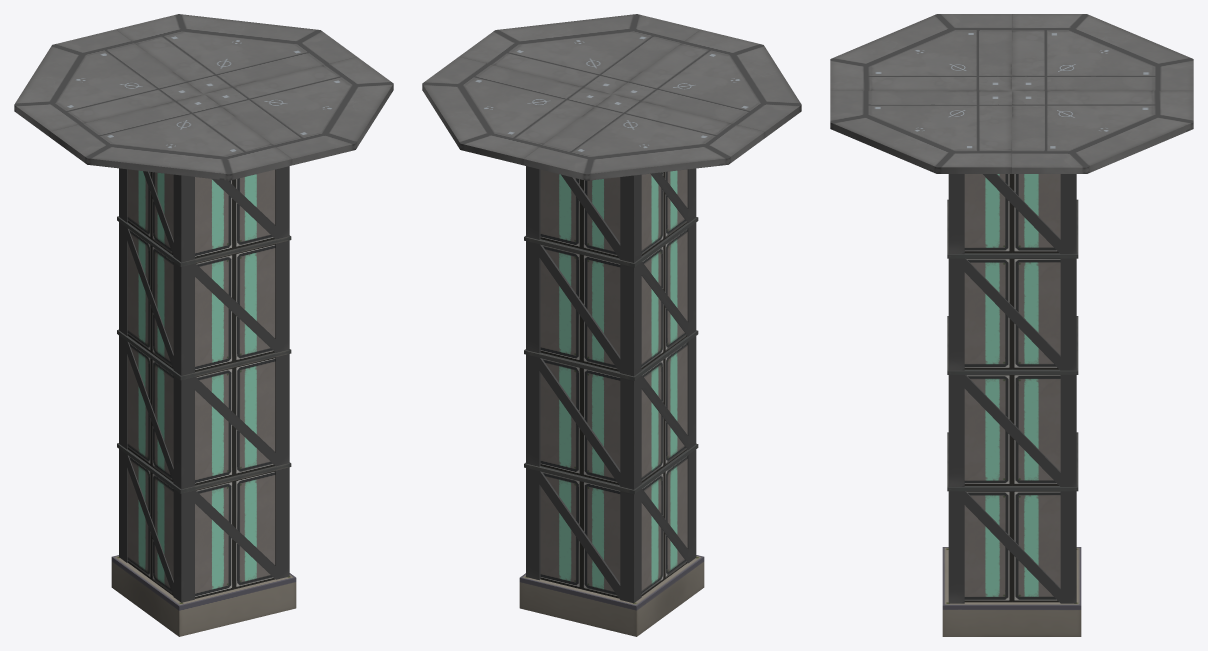
File: Sci-Fi_Prefab_Var8.fbx
3 renders of one model, left to right at view 1: azimuth 30°, elevation 25°; view 2: azimuth 150°, elevation 25°; view 3: azimuth 270°, elevation 25°, orthographic. The views are drawn at different scales.
Visible parts, largest first — view 1: ProjectRG_Environment_Sci-Fi_OctagonPlatform.018, ProjectRG_Environment_Sci-Fi_OctagonPlatform.019, ProjectRG_Environment_Sci-Fi_OctagonPlatform.017, ProjectRG_Environment_Sci-Fi_OctagonPlatform.020, ProjectRG_Environment_Sci-Fi_FrameTower.014, ProjectRG_Environment_Sci-Fi_FrameTower.013, ProjectRG_Environment_Sci-Fi_FrameTower.015, ProjectRG_Environment_Sci-Fi_BaseFoundation_Large.002, ProjectRG_Environment_Sci-Fi_ModBlock_Tall.025, ProjectRG_Environment_Sci-Fi_ModBlock_Tall.030, ProjectRG_Environment_Sci-Fi_ModBlock_Tall.024, ProjectRG_Environment_Sci-Fi_FrameTower.016 (+12 smaller); view 2: ProjectRG_Environment_Sci-Fi_OctagonPlatform.017, ProjectRG_Environment_Sci-Fi_OctagonPlatform.020, ProjectRG_Environment_Sci-Fi_OctagonPlatform.018, ProjectRG_Environment_Sci-Fi_OctagonPlatform.019, ProjectRG_Environment_Sci-Fi_FrameTower.015, ProjectRG_Environment_Sci-Fi_FrameTower.013, ProjectRG_Environment_Sci-Fi_FrameTower.014, ProjectRG_Environment_Sci-Fi_BaseFoundation_Large.002, ProjectRG_Environment_Sci-Fi_ModBlock_Tall.032, ProjectRG_Environment_Sci-Fi_ModBlock_Tall.033, ProjectRG_Environment_Sci-Fi_ModBlock_Tall.027, ProjectRG_Environment_Sci-Fi_FrameTower.016 (+12 smaller); view 3: ProjectRG_Environment_Sci-Fi_OctagonPlatform.019, ProjectRG_Environment_Sci-Fi_OctagonPlatform.020, ProjectRG_Environment_Sci-Fi_OctagonPlatform.017, ProjectRG_Environment_Sci-Fi_OctagonPlatform.018, ProjectRG_Environment_Sci-Fi_BaseFoundation_Large.002, ProjectRG_Environment_Sci-Fi_FrameTower.013, ProjectRG_Environment_Sci-Fi_FrameTower.015, ProjectRG_Environment_Sci-Fi_FrameTower.014, ProjectRG_Environment_Sci-Fi_ModBlock_Tall.034, ProjectRG_Environment_Sci-Fi_ModBlock_Tall.036, ProjectRG_Environment_Sci-Fi_ModBlock_Tall.029, ProjectRG_Environment_Sci-Fi_ModBlock_Tall.028 (+8 smaller).
Part boxes in pixels (bbox=[...]): ProjectRG_Environment_Sci-Fi_OctagonPlatform.018: bbox=[50, 94, 292, 180]; ProjectRG_Environment_Sci-Fi_OctagonPlatform.019: bbox=[204, 57, 393, 165]; ProjectRG_Environment_Sci-Fi_OctagonPlatform.017: bbox=[14, 29, 203, 137]; ProjectRG_Environment_Sci-Fi_OctagonPlatform.020: bbox=[116, 14, 356, 93]; ProjectRG_Environment_Sci-Fi_FrameTower.014: bbox=[119, 335, 289, 489]; ProjectRG_Environment_Sci-Fi_FrameTower.013: bbox=[119, 449, 289, 602]; ProjectRG_Environment_Sci-Fi_FrameTower.015: bbox=[119, 222, 289, 375]; ProjectRG_Environment_Sci-Fi_BaseFoundation_Large.002: bbox=[111, 555, 296, 636]; ProjectRG_Environment_Sci-Fi_ModBlock_Tall.025: bbox=[151, 359, 234, 485]; ProjectRG_Environment_Sci-Fi_ModBlock_Tall.030: bbox=[151, 246, 234, 371]; ProjectRG_Environment_Sci-Fi_ModBlock_Tall.024: bbox=[151, 473, 234, 598]; ProjectRG_Environment_Sci-Fi_FrameTower.016: bbox=[119, 166, 289, 262]; ProjectRG_Environment_Sci-Fi_OctagonPlatform.017: bbox=[523, 94, 765, 180]; ProjectRG_Environment_Sci-Fi_OctagonPlatform.020: bbox=[422, 57, 611, 165]; ProjectRG_Environment_Sci-Fi_OctagonPlatform.018: bbox=[612, 29, 801, 137]; ProjectRG_Environment_Sci-Fi_OctagonPlatform.019: bbox=[459, 14, 699, 93]; ProjectRG_Environment_Sci-Fi_FrameTower.015: bbox=[526, 223, 696, 376]; ProjectRG_Environment_Sci-Fi_FrameTower.013: bbox=[526, 449, 696, 603]; ProjectRG_Environment_Sci-Fi_FrameTower.014: bbox=[526, 336, 696, 489]; ProjectRG_Environment_Sci-Fi_BaseFoundation_Large.002: bbox=[519, 555, 704, 636]; ProjectRG_Environment_Sci-Fi_ModBlock_Tall.032: bbox=[581, 473, 664, 598]; ProjectRG_Environment_Sci-Fi_ModBlock_Tall.033: bbox=[581, 246, 664, 371]; ProjectRG_Environment_Sci-Fi_ModBlock_Tall.027: bbox=[581, 359, 664, 484]; ProjectRG_Environment_Sci-Fi_FrameTower.016: bbox=[526, 166, 696, 262]; ProjectRG_Environment_Sci-Fi_OctagonPlatform.019: bbox=[830, 90, 1011, 173]; ProjectRG_Environment_Sci-Fi_OctagonPlatform.020: bbox=[1012, 90, 1193, 173]; ProjectRG_Environment_Sci-Fi_OctagonPlatform.017: bbox=[1012, 14, 1193, 90]; ProjectRG_Environment_Sci-Fi_OctagonPlatform.018: bbox=[830, 14, 1011, 90]; ProjectRG_Environment_Sci-Fi_BaseFoundation_Large.002: bbox=[942, 547, 1081, 636]; ProjectRG_Environment_Sci-Fi_FrameTower.013: bbox=[948, 491, 1076, 603]; ProjectRG_Environment_Sci-Fi_FrameTower.015: bbox=[948, 258, 1076, 370]; ProjectRG_Environment_Sci-Fi_FrameTower.014: bbox=[948, 375, 1076, 486]; ProjectRG_Environment_Sci-Fi_ModBlock_Tall.034: bbox=[1012, 258, 1060, 369]; ProjectRG_Environment_Sci-Fi_ModBlock_Tall.036: bbox=[1012, 491, 1060, 602]; ProjectRG_Environment_Sci-Fi_ModBlock_Tall.029: bbox=[1012, 375, 1060, 485]; ProjectRG_Environment_Sci-Fi_ModBlock_Tall.028: bbox=[964, 491, 1011, 602].
Size of the model in its own units: 2921 by 4587 by 2921.
